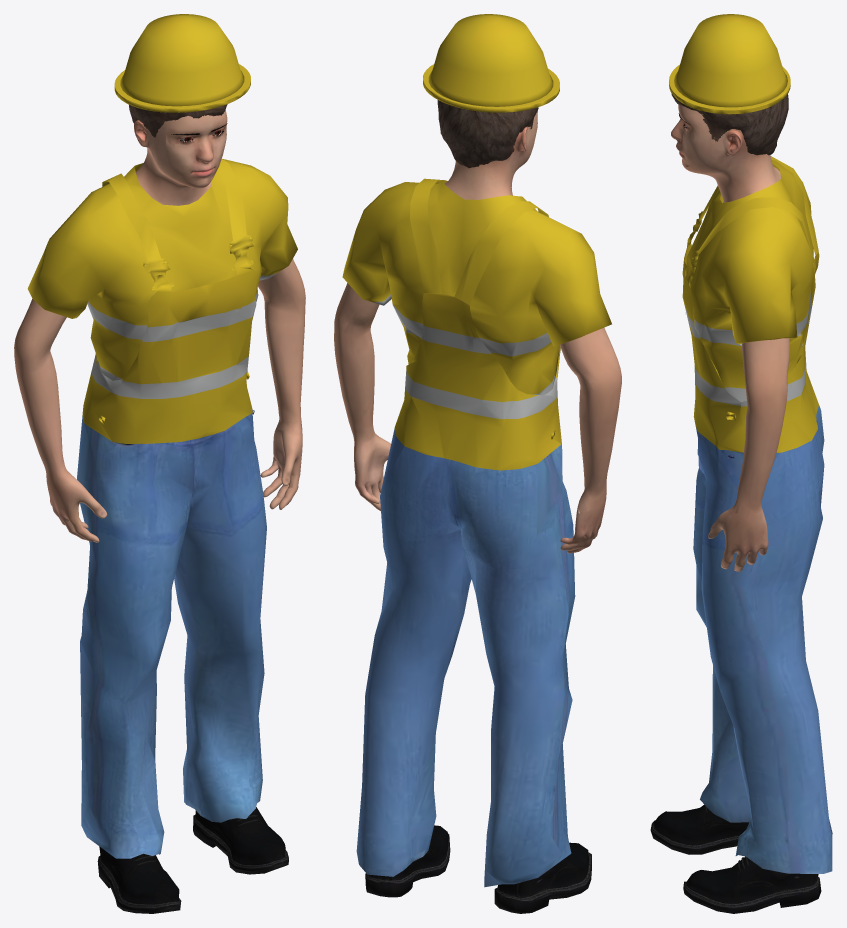
The model's file is worker-hivis.glb.
3 renders of one model, left to right at view 1: azimuth 30°, elevation 25°; view 2: azimuth 150°, elevation 25°; view 3: azimuth 270°, elevation 25°, orthographic. The views are drawn at different scales.
Visible parts, largest first — view 1: male_worksuit01, Drew | anatomical body, shoes03, short02; view 2: male_worksuit01, Drew | anatomical body, shoes03, short02; view 3: male_worksuit01, Drew | anatomical body, shoes03, short02.
Part boxes in pixels (x1,y1,x2,y2): male_worksuit01: [27, 14, 297, 858]; Drew | anatomical body: [14, 110, 305, 542]; shoes03: [97, 807, 288, 913]; short02: [129, 104, 227, 137]; male_worksuit01: [342, 14, 611, 887]; Drew | anatomical body: [334, 109, 621, 553]; shoes03: [365, 825, 591, 913]; short02: [437, 100, 538, 168]; male_worksuit01: [669, 14, 832, 873]; Drew | anatomical body: [671, 104, 789, 571]; shoes03: [650, 804, 821, 913]; short02: [671, 94, 788, 155].
Size of the model in its own units: 0.6471 by 1.89 by 0.3671.
11 materials, 11 textured.
